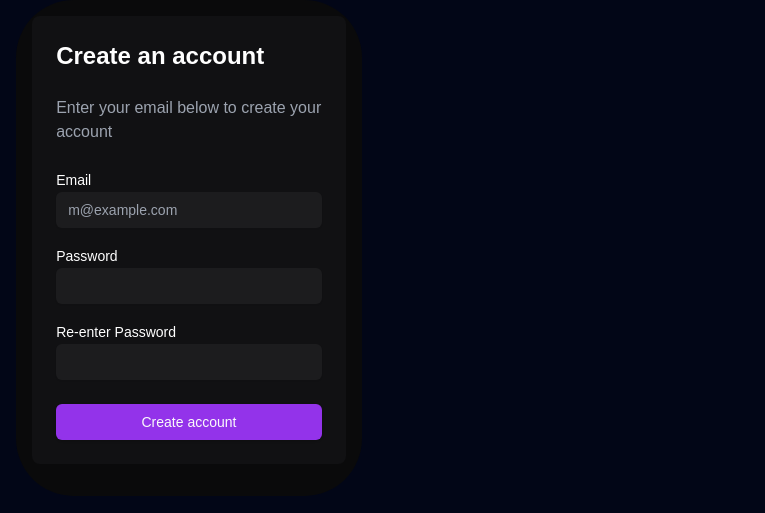
Test: CreateAccount Component › shows error for empty email and password
The image size is (765, 513).
Click the button "Create account" at (189, 422), box left=56, top=404, right=322, bottom=440
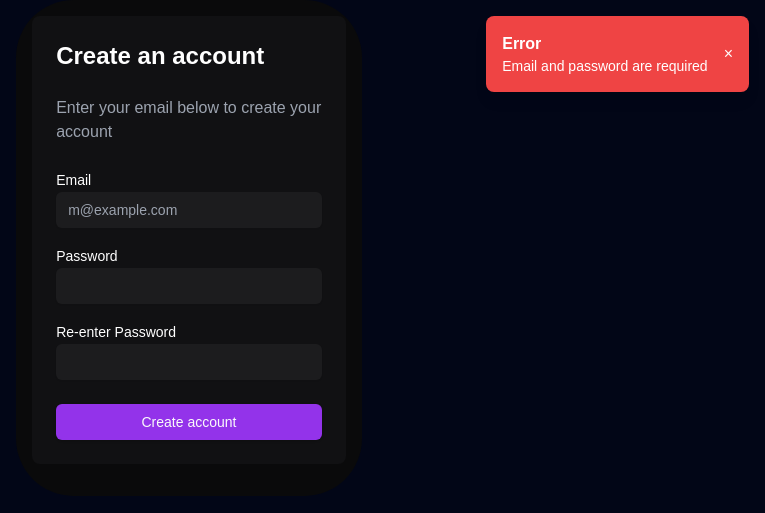
Result: the text "Email and password are required" is shown at left=502, top=56, right=708, bottom=76
